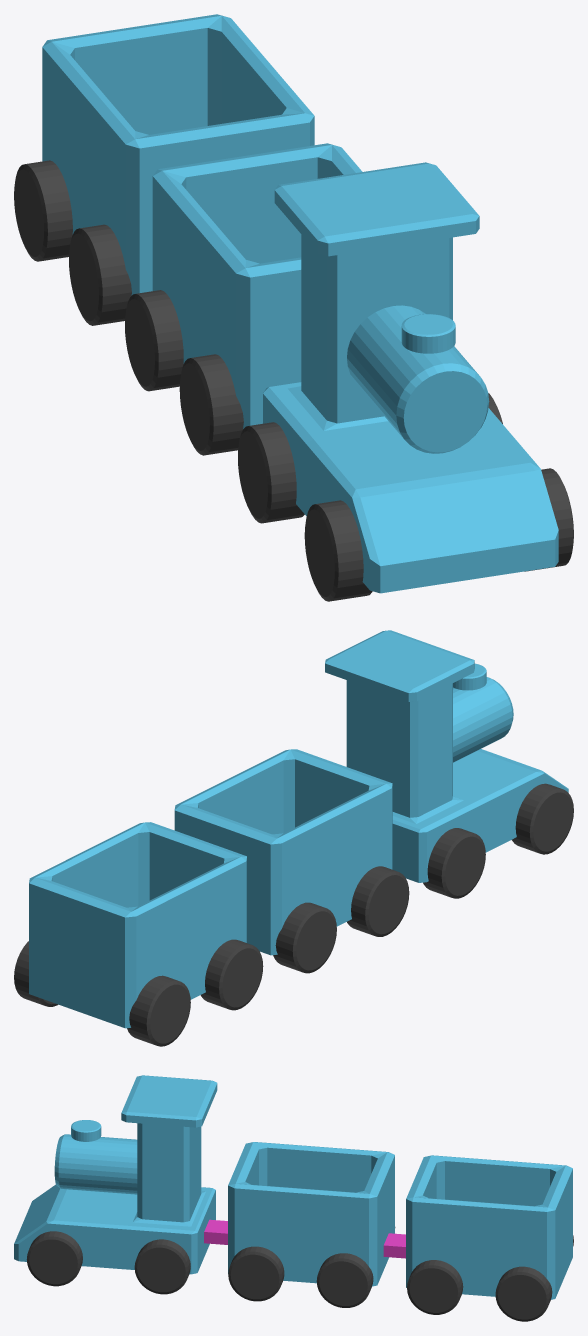
The model's file is ToyTrain_2_Props.fbx.
3 renders of one model, top to bottom at view 1: azimuth 30°, elevation 25°; view 2: azimuth 150°, elevation 25°; view 3: azimuth 270°, elevation 25°, orthographic. The views are drawn at different scales.
Visible parts, largest first — view 1: TrainBody.002, TrainCarriage.005, TrainCarriage.004, TrainFront.006, TrainTire.032, TrainTire.030, TrainTire.031, TrainTire.034, TrainTire.035, TrainTire.033, TrainFront.007, TrainTire.024; view 2: TrainCarriage.005, TrainBody.002, TrainCarriage.004, TrainFront.006, TrainTire.035, TrainTire.033, TrainTire.031, TrainTire.030, TrainTire.034, TrainTire.032, TrainTire.029, TrainFront.007; view 3: TrainBody.002, TrainCarriage.005, TrainCarriage.004, TrainFront.006, TrainTire.029, TrainTire.027, TrainTire.026, TrainTire.024, TrainTire.025, TrainTire.028, TrainFront.007, TrainConnect.004 (+1 smaller).
Part boxes in pixels (box(x1,y1,x2,y2)): TrainBody.002: box(263, 162, 558, 593); TrainCarriage.005: box(42, 14, 314, 295); TrainCarriage.004: box(152, 143, 362, 428); TrainFront.006: box(347, 305, 489, 453); TrainTire.032: box(179, 354, 243, 455); TrainTire.030: box(304, 500, 372, 601); TrainTire.031: box(238, 422, 304, 523); TrainTire.034: box(69, 224, 131, 325); TrainTire.035: box(14, 160, 72, 261); TrainTire.033: box(125, 290, 183, 391); TrainFront.007: box(401, 314, 455, 353); TrainTire.024: box(524, 468, 573, 571); TrainCarriage.005: box(29, 822, 246, 1028); TrainBody.002: box(325, 630, 568, 882); TrainCarriage.004: box(174, 749, 392, 955); TrainFront.006: box(453, 677, 513, 762); TrainTire.035: box(127, 975, 190, 1046); TrainTire.033: box(273, 902, 336, 973); TrainTire.031: box(423, 828, 485, 898); TrainTire.030: box(512, 783, 573, 854); TrainTire.034: box(200, 939, 263, 1010); TrainTire.032: box(347, 866, 409, 936); TrainTire.029: box(14, 941, 58, 1006); TrainFront.007: box(453, 663, 486, 690); TrainBody.002: box(14, 1075, 217, 1274); TrainCarriage.005: box(406, 1155, 572, 1299); TrainCarriage.004: box(228, 1142, 394, 1286); TrainFront.006: box(54, 1134, 137, 1194); TrainTire.029: box(495, 1266, 552, 1321); TrainTire.027: box(316, 1253, 373, 1307); TrainTire.026: box(228, 1246, 284, 1301); TrainTire.024: box(26, 1231, 82, 1286); TrainTire.025: box(134, 1239, 190, 1294); TrainTire.028: box(407, 1260, 463, 1314); TrainFront.007: box(71, 1120, 101, 1141); TrainConnect.004: box(204, 1219, 227, 1244).
Bounding box in the file's own units: 131 × 106 × 317.
